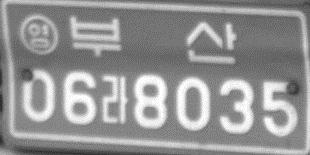0: (175, 76, 211, 132), (20, 67, 55, 123)
3: (218, 78, 254, 135)
5: (261, 80, 298, 139)
6: (61, 70, 97, 126)
8: (132, 73, 168, 129)
라: (99, 74, 129, 125)
부산_D: (68, 15, 238, 65)
영: (18, 13, 59, 55)
